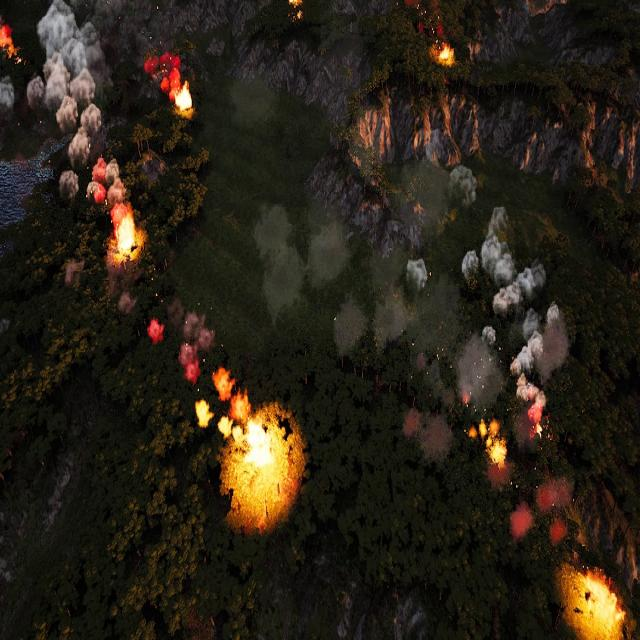fire: (224, 402, 297, 519), (578, 568, 624, 638), (112, 207, 138, 257), (477, 423, 507, 466), (176, 81, 195, 113), (0, 23, 15, 57), (196, 400, 213, 428), (148, 320, 164, 346), (218, 414, 233, 438), (440, 44, 454, 62), (286, 0, 304, 8)
smoke: (454, 206, 568, 443), (0, 0, 131, 204), (255, 202, 348, 404), (150, 300, 217, 388), (509, 473, 570, 544), (146, 51, 182, 98), (407, 258, 429, 290), (0, 76, 14, 111)
